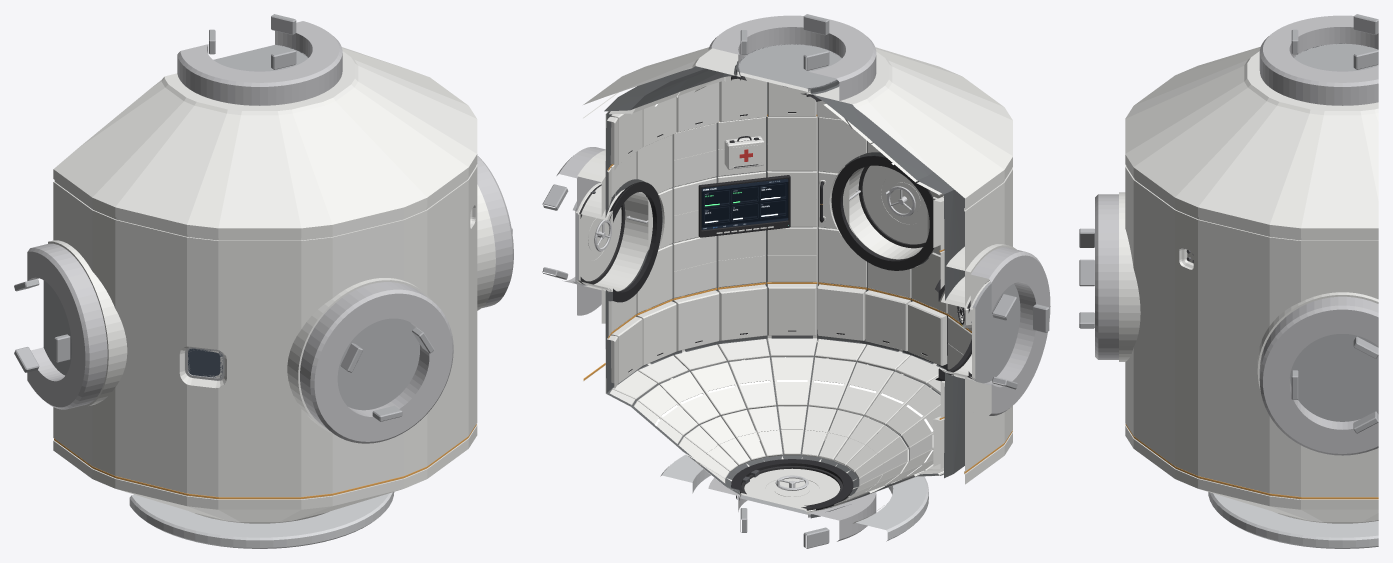
The model's file is ax_grav_01_despun_hub_cutaway.glb.
3 views of the same model, side by side, from view 1: azimuth 30°, elevation 25°; view 2: azimuth 150°, elevation 25°; view 3: azimuth 270°, elevation 25° (orthographic).
Visible parts, largest first — view 1: ext_pressure_hull, ext_port_4, ext_port_3, ext_port_top, ext_bearing_interface_ring, ext_hatch_door_6, ext_port_1, ext_port_3_pedestal, ext_port_4_pedestal, ext_port_1_pedestal, ext_hatch_door_5, ext_hatch_door_2 (+5 smaller); view 2: ext_pressure_hull, pressure_vessel, ext_port_3, ext_port_top, eqm50l_2_eqm50_screen, hatch_door_6, ext_bearing_interface_ring, tunnel_liner_3, ext_hatch_door_5, tunnel_trim_ring_6, ext_hatch_door_2, panel_b7_f20 (+76 smaller); view 3: ext_pressure_hull, ext_port_1, ext_port_top, ext_hatch_door_3, ext_bearing_interface_ring, ext_port_4, ext_port_4_pedestal, ext_hatch_door_2, ext_port_top_petals, ext_port_4_petals, ext_port_1_petals, ext_port_1_pedestal (+1 smaller).
Part boxes in pixels (<box>): ext_pressure_hull: <box>53,47,477,523</box>; ext_port_4: <box>300,282,453,443</box>; ext_port_3: <box>27,243,107,409</box>; ext_port_top: <box>177,21,342,105</box>; ext_bearing_interface_ring: <box>129,492,394,548</box>; ext_hatch_door_6: <box>337,318,419,410</box>; ext_port_1: <box>477,156,513,307</box>; ext_port_3_pedestal: <box>48,240,127,407</box>; ext_port_4_pedestal: <box>287,278,431,433</box>; ext_port_1_pedestal: <box>477,184,495,310</box>; ext_hatch_door_5: <box>43,280,71,375</box>; ext_hatch_door_2: <box>213,44,307,71</box>; ext_pressure_hull: <box>583,47,1012,523</box>; pressure_vessel: <box>604,44,971,518</box>; ext_port_3: <box>971,247,1050,415</box>; ext_port_top: <box>708,15,876,100</box>; eqm50l_2_eqm50_screen: <box>701,179,788,229</box>; hatch_door_6: <box>862,165,927,244</box>; ext_bearing_interface_ring: <box>660,454,928,541</box>; tunnel_liner_3: <box>581,185,648,291</box>; ext_hatch_door_5: <box>972,281,1020,383</box>; tunnel_trim_ring_6: <box>831,155,933,270</box>; ext_hatch_door_2: <box>738,44,841,91</box>; panel_b7_f20: <box>767,227,817,281</box>; ext_pressure_hull: <box>1125,46,1378,523</box>; ext_port_1: <box>1259,296,1378,455</box>; ext_port_top: <box>1259,15,1378,105</box>; ext_hatch_door_3: <box>1289,334,1378,421</box>; ext_bearing_interface_ring: <box>1208,492,1378,548</box>; ext_port_4: <box>1095,194,1118,359</box>; ext_port_4_pedestal: <box>1119,192,1140,361</box>; ext_hatch_door_2: <box>1294,43,1378,71</box>; ext_port_top_petals: <box>1291,14,1378,69</box>; ext_port_4_petals: <box>1079,228,1094,328</box>; ext_port_1_petals: <box>1291,336,1378,433</box>; ext_port_1_pedestal: <box>1257,292,1378,390</box>.
Bounding box in the file's own units: 5.09 × 5.17 × 2.89.
Materials: 27 (1 with a texture image).
